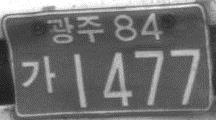1: (71, 51, 89, 109)
4: (102, 51, 132, 107), (140, 12, 164, 41)
7: (168, 47, 202, 107), (132, 48, 165, 107)
8: (113, 13, 135, 41)
가: (21, 55, 56, 94)
광주_O: (46, 14, 103, 46)
